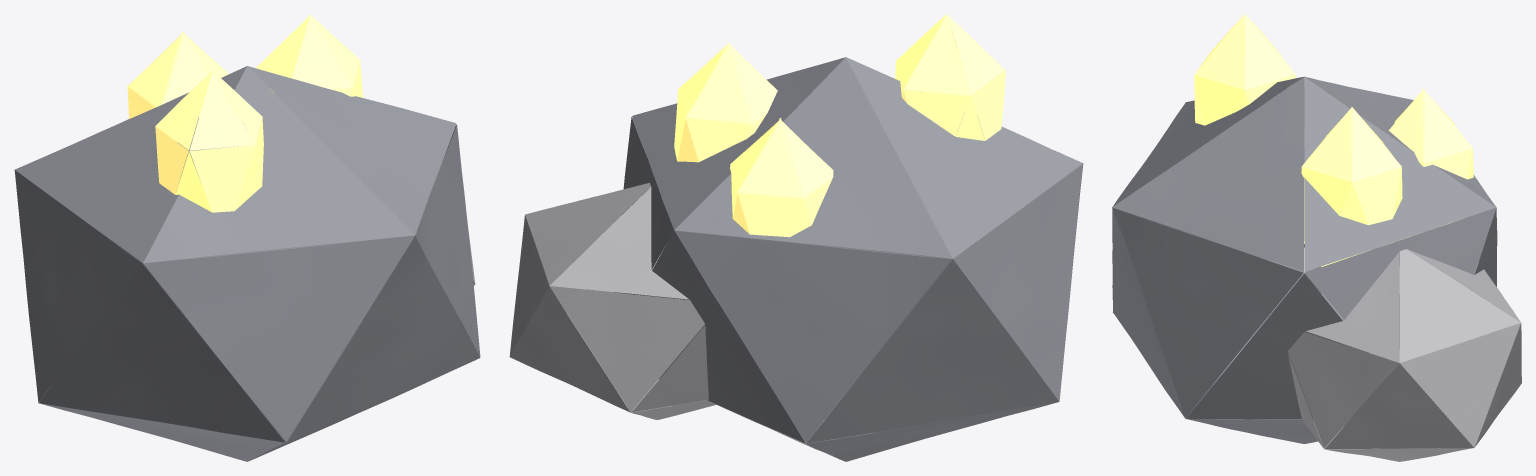
Rendered from gold_node.glb.
3 renders of one model, left to right at view 1: azimuth 30°, elevation 25°; view 2: azimuth 150°, elevation 25°; view 3: azimuth 270°, elevation 25°, orthographic. The views are drawn at different scales.
Visible parts, largest first — view 1: GoldNodeRock; view 2: GoldNodeRock; view 3: GoldNodeRock.
Part boxes in pixels (bbox=[...]): GoldNodeRock: bbox=[14, 14, 480, 461]; GoldNodeRock: bbox=[509, 14, 1083, 461]; GoldNodeRock: bbox=[1112, 14, 1521, 461].
Size of the model in its own units: 0.8487 by 0.741 by 0.6882.
